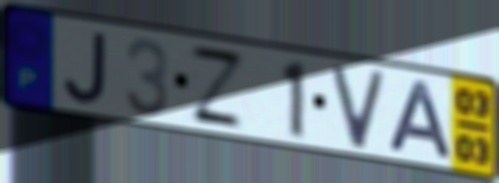1: (279, 57, 309, 141)
3: (123, 35, 170, 118)
A: (383, 77, 457, 161)
J: (61, 29, 110, 107)
V: (328, 62, 390, 153)
Z: (188, 41, 249, 132)
